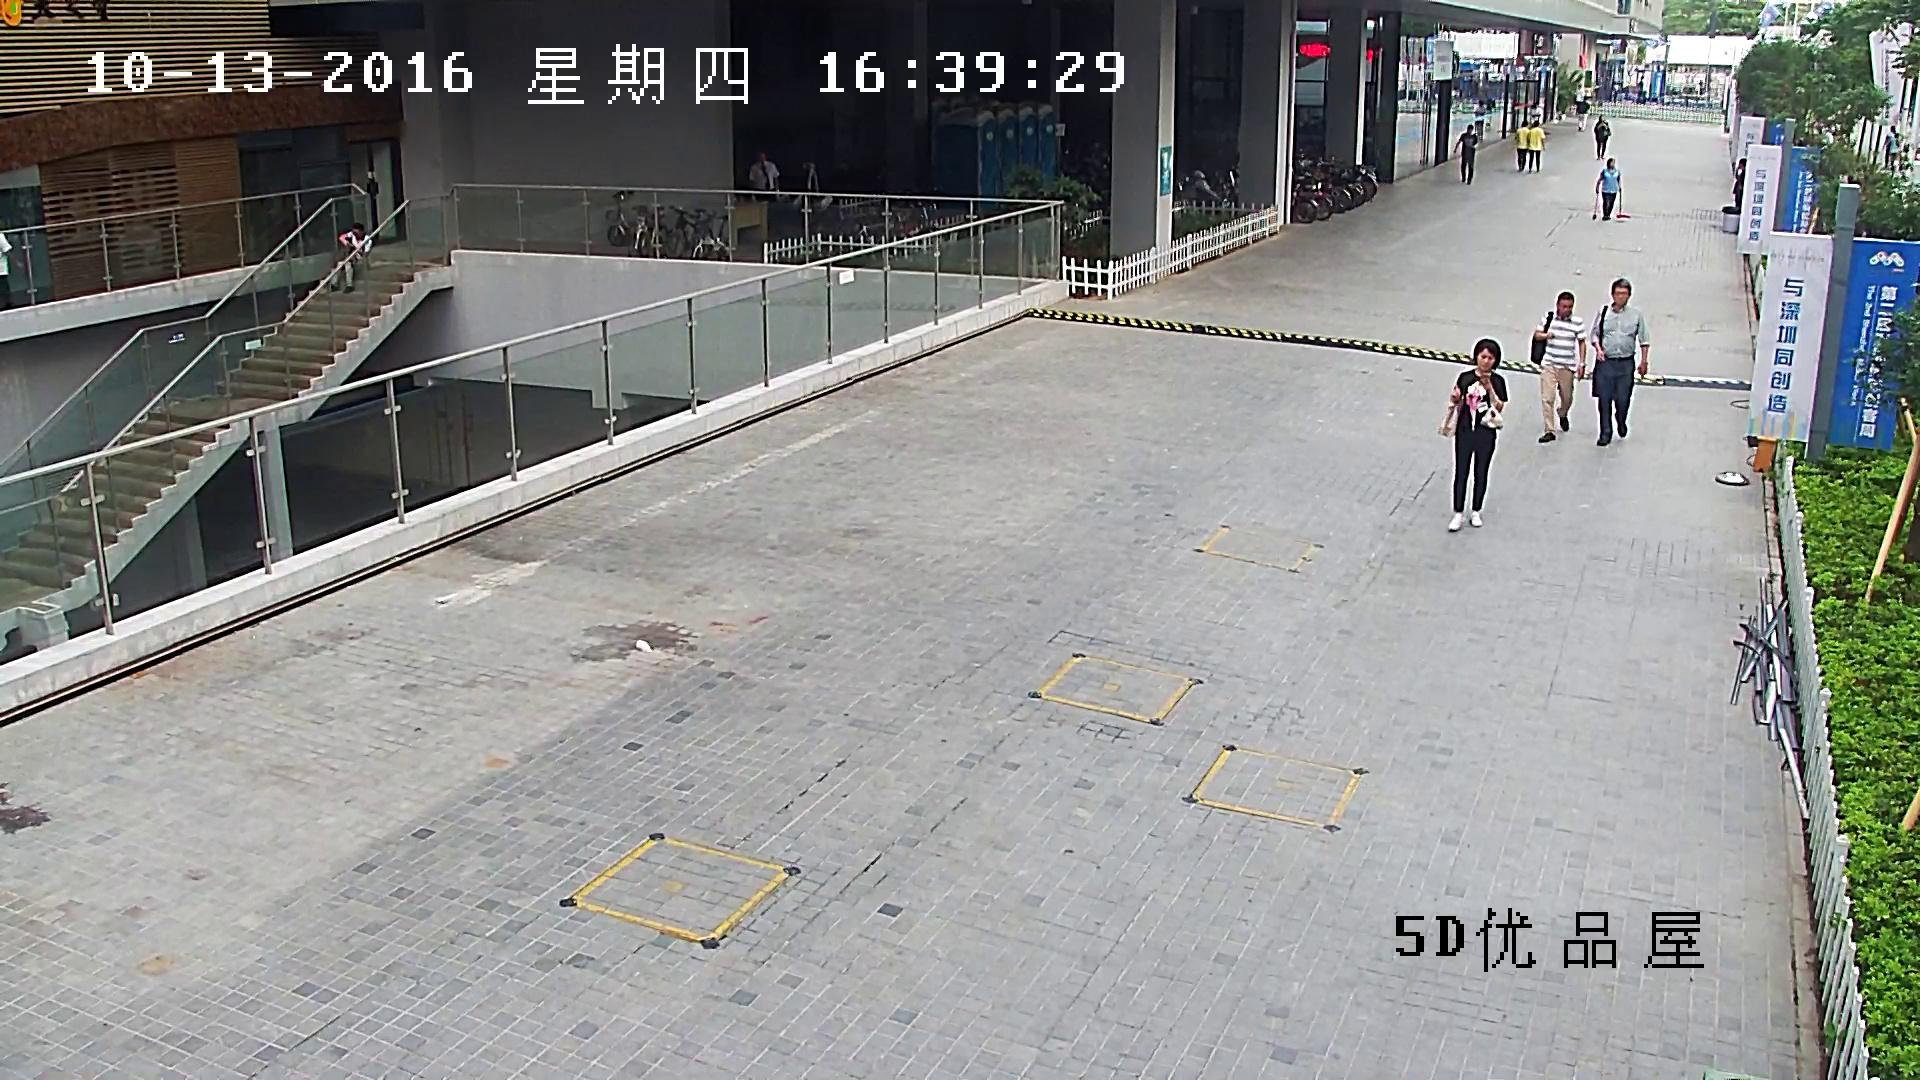person: (1440, 339, 1507, 530), (1590, 278, 1649, 445), (1531, 292, 1585, 442), (330, 222, 371, 291), (1591, 158, 1630, 220), (748, 150, 779, 202), (1453, 124, 1478, 184), (1596, 158, 1621, 219), (0, 232, 19, 310), (1527, 120, 1545, 171), (1513, 119, 1529, 171), (1594, 116, 1610, 160), (1732, 157, 1745, 206), (1881, 125, 1895, 167), (1474, 100, 1486, 142), (1888, 133, 1901, 170), (1576, 96, 1589, 131), (1637, 75, 1645, 103)
